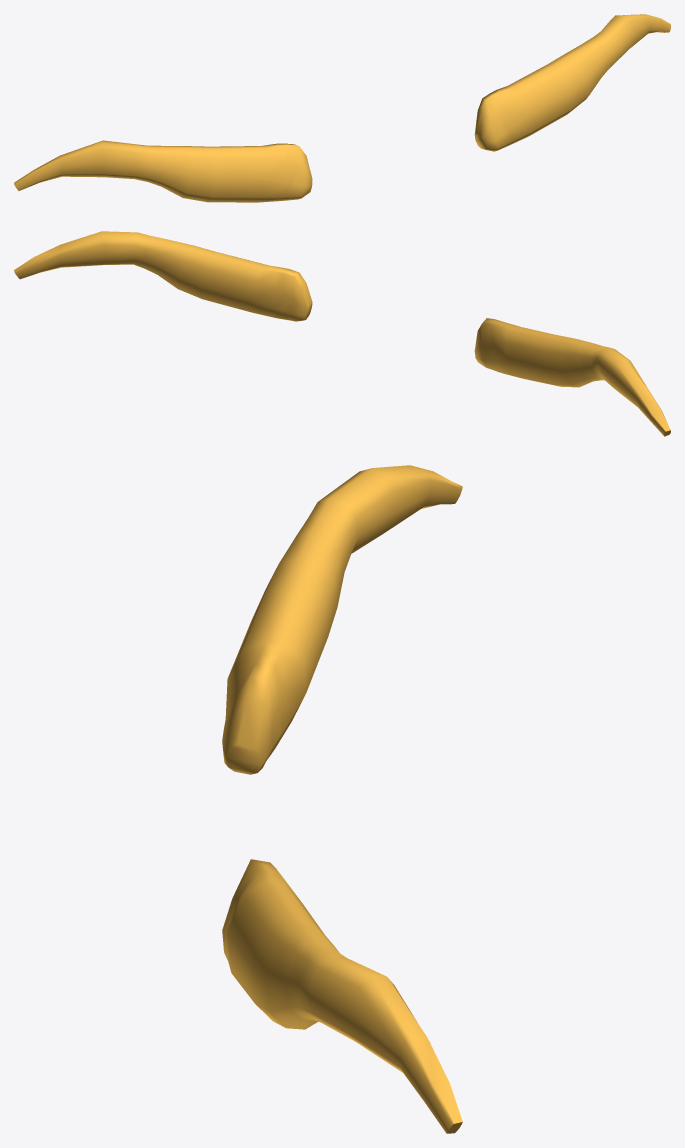
File: Eyebrows_06_05.fbx
3 views of the same model, one above another, from view 1: azimuth 30°, elevation 25°; view 2: azimuth 150°, elevation 25°; view 3: azimuth 270°, elevation 25° (orthographic). The views are drawn at different scales.
Parts seen in each view (by area): view 1: Eyebrows_06_05; view 2: Eyebrows_06_05; view 3: Eyebrows_06_05.
Part boxes in pixels (x1=…): Eyebrows_06_05: x1=14, y1=14, x2=670, y2=202; Eyebrows_06_05: x1=14, y1=231, x2=670, y2=436; Eyebrows_06_05: x1=222, y1=465, x2=462, y2=1133.
Bounding box in the file's own units: 19.46 × 2.04 × 3.09.
